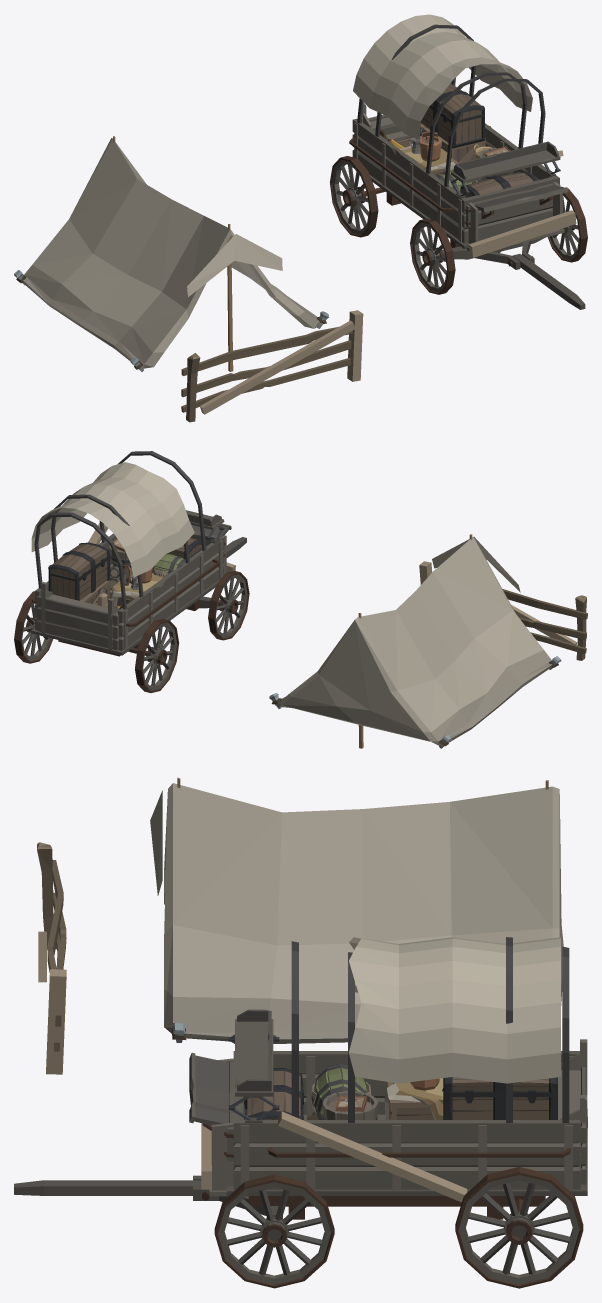
Rendered from stage-shapes.glb.
3 renders of one model, top to bottom at view 1: azimuth 30°, elevation 25°; view 2: azimuth 150°, elevation 25°; view 3: azimuth 270°, elevation 25°, orthographic. The views are drawn at different scales.
Visible parts, largest first — view 1: frontier_part_0004_4, Sample repairs, frontier_part_0161_161, frontier_part_0165_165, town_part_0021_21, frontier_part_0162_162, frontier_part_0166_166, frontier_part_0163_163, frontier_part_0160_160, frontier_part_0159_159; view 2: frontier_part_0004_4, Sample repairs, frontier_part_0161_161, frontier_part_0165_165, frontier_part_0159_159, frontier_part_0162_162, town_part_0021_21, frontier_part_0166_166, frontier_part_0164_164; view 3: frontier_part_0004_4, frontier_part_0161_161, Sample repairs, frontier_part_0165_165, frontier_part_0164_164, frontier_part_0160_160, frontier_part_0163_163, town_part_0021_21, frontier_part_0159_159.
Part boxes in pixels (<box>): frontier_part_0004_4: <box>14,136,329,371</box>; Sample repairs: <box>187,14,576,414</box>; frontier_part_0161_161: <box>349,24,568,250</box>; frontier_part_0165_165: <box>380,83,537,197</box>; town_part_0021_21: <box>181,327,352,422</box>; frontier_part_0162_162: <box>330,156,378,237</box>; frontier_part_0166_166: <box>410,218,455,294</box>; frontier_part_0163_163: <box>442,237,585,309</box>; frontier_part_0160_160: <box>547,186,587,262</box>; frontier_part_0159_159: <box>361,103,412,141</box>; frontier_part_0004_4: <box>269,534,561,748</box>; Sample repairs: <box>31,462,577,644</box>; frontier_part_0161_161: <box>30,451,231,656</box>; frontier_part_0165_165: <box>48,538,202,625</box>; frontier_part_0159_159: <box>36,582,119,650</box>; frontier_part_0162_162: <box>135,619,179,692</box>; town_part_0021_21: <box>429,575,587,660</box>; frontier_part_0166_166: <box>208,571,249,640</box>; frontier_part_0164_164: <box>14,591,52,663</box>; frontier_part_0004_4: <box>164,777,563,1043</box>; frontier_part_0161_161: <box>189,937,587,1219</box>; Sample repairs: <box>38,790,560,1202</box>; frontier_part_0165_165: <box>244,1063,557,1119</box>; frontier_part_0164_164: <box>455,1167,583,1288</box>; frontier_part_0160_160: <box>214,1174,334,1288</box>; frontier_part_0163_163: <box>14,1175,282,1217</box>; town_part_0021_21: <box>37,842,66,1051</box>; frontier_part_0159_159: <box>558,1039,587,1184</box>.
Bounding box in the file's own units: 8.68 × 3.38 × 5.88.
4 materials, 2 textured.
